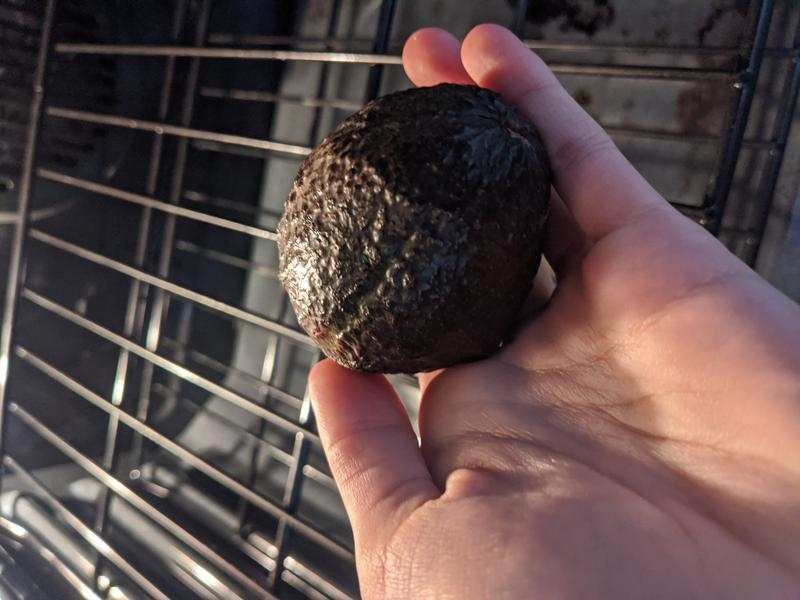avocado: (277, 82, 553, 370)
